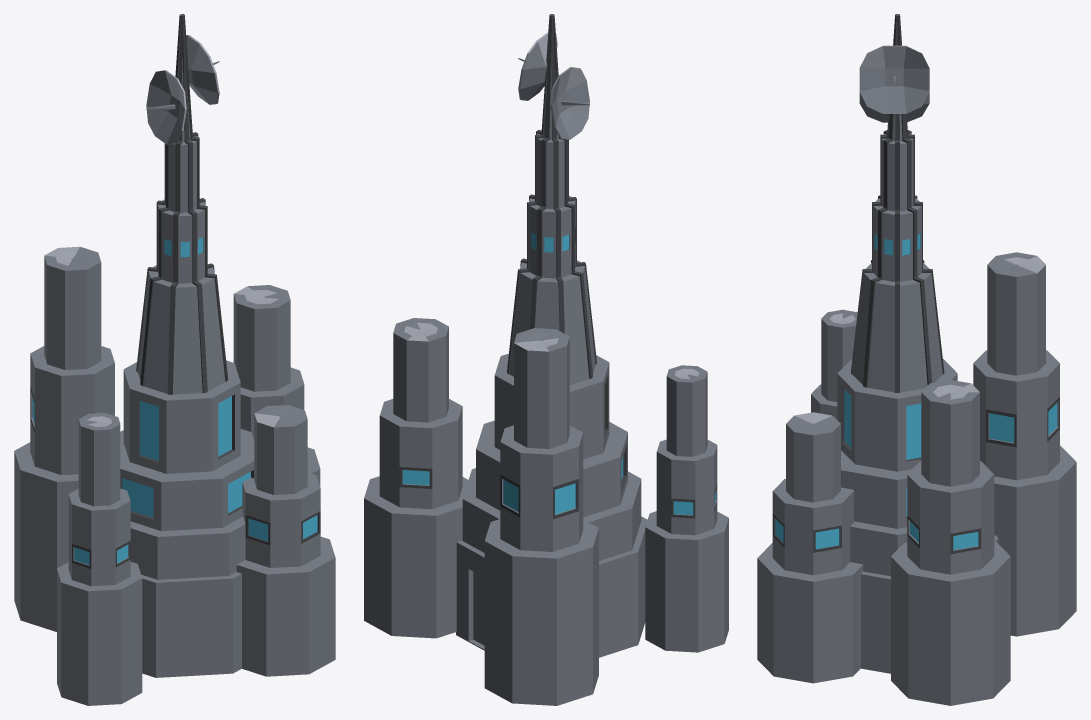
Rendered from prediocentral.fbx.
3 renders of one model, left to right at view 1: azimuth 30°, elevation 25°; view 2: azimuth 150°, elevation 25°; view 3: azimuth 270°, elevation 25°, orthographic. The views are drawn at different scales.
Visible parts, largest first — view 1: Cylinder.001, Cylinder.004, Cylinder, Cylinder.005, Cylinder.002, Cylinder.003, Cube.001, Cube; view 2: Cylinder.004, Cylinder.003, Cylinder.001, Cylinder.005, Cylinder.002, Cube.001, Cube; view 3: Cylinder.003, Cylinder.004, Cylinder, Cylinder.002, Cylinder.001, Cube, Cylinder.005, Cube.001.
Boxes of the visible parts, box(x1,y1,x2,y2) form: Cylinder.001: box(120, 360, 254, 677); Cylinder.004: box(14, 246, 114, 631); Cylinder: box(236, 405, 335, 676); Cylinder.005: box(57, 413, 142, 705); Cylinder.002: box(136, 14, 228, 394); Cylinder.003: box(233, 285, 320, 486); Cube.001: box(146, 70, 186, 144); Cube: box(186, 35, 219, 104); Cylinder.004: box(484, 328, 598, 705); Cylinder.003: box(364, 318, 468, 638); Cylinder.001: box(456, 353, 647, 657); Cylinder.005: box(645, 365, 728, 652); Cylinder.002: box(507, 14, 596, 384); Cube.001: box(550, 67, 589, 139); Cube: box(518, 32, 557, 100); Cylinder.003: box(891, 380, 1010, 705); Cylinder.004: box(973, 252, 1076, 636); Cylinder: box(757, 412, 863, 683); Cylinder.002: box(851, 14, 944, 392); Cylinder.001: box(837, 358, 998, 673); Cube: box(859, 45, 929, 113); Cylinder.005: box(811, 309, 857, 419); Cube.001: box(859, 92, 929, 122).
Bounding box in the file's own units: 629 × 1223 × 569.
